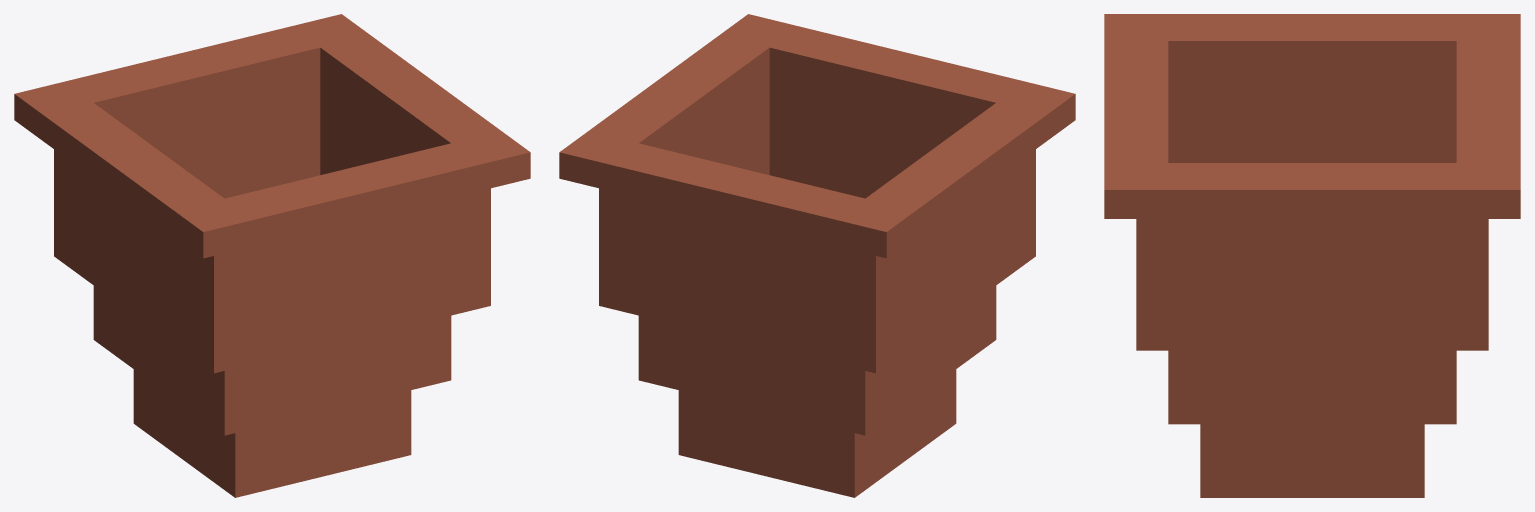
The model's file is Pot00.gltf.
The picture shows the model from 3 angles, left to right: view 1: azimuth 30°, elevation 25°; view 2: azimuth 150°, elevation 25°; view 3: azimuth 270°, elevation 25°; orthographic projection. The views are drawn at different scales.
Parts seen in each view (by area): view 1: Layer.1; view 2: Layer.1; view 3: Layer.1.
Boxes of the visible parts, box(x1,y1,x2,y2) form: Layer.1: box(14, 14, 530, 497); Layer.1: box(559, 14, 1075, 497); Layer.1: box(1104, 14, 1520, 497).
Size of the model in its own units: 13 by 12 by 13.
